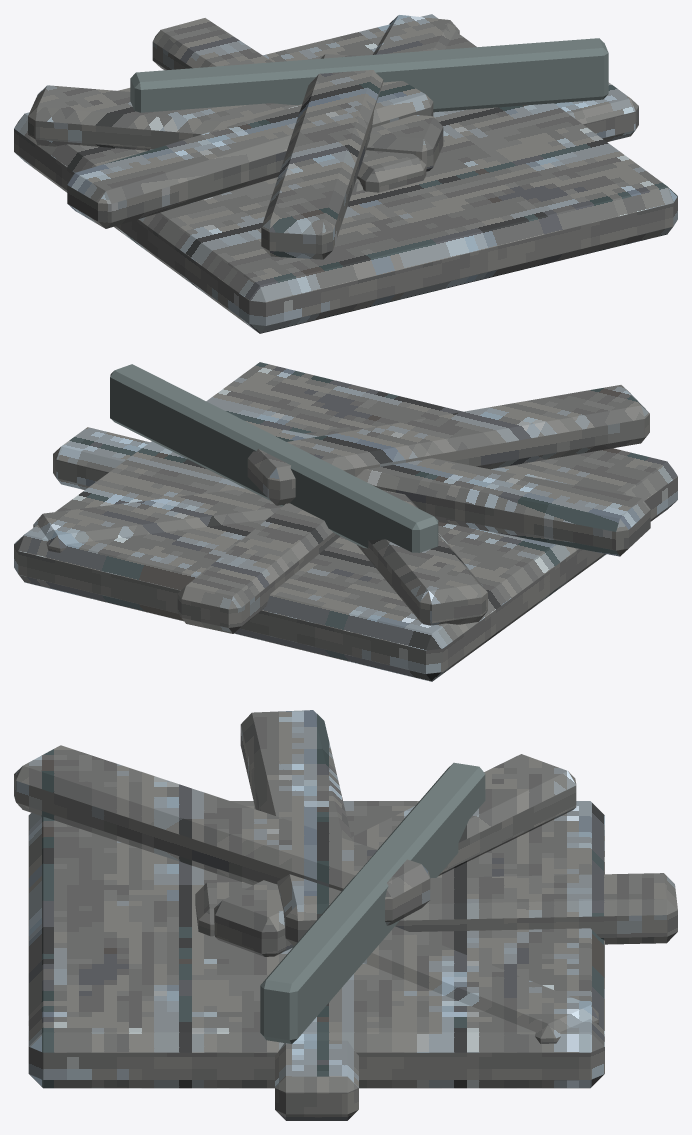
Rendered from caixa_quebrada.fbx.
3 views of the same model, one above another, from view 1: azimuth 30°, elevation 25°; view 2: azimuth 150°, elevation 25°; view 3: azimuth 270°, elevation 25° (orthographic). The views are drawn at different scales.
Visible parts, largest first — view 1: neve_caixa_quebrada; view 2: neve_caixa_quebrada; view 3: neve_caixa_quebrada.
Boxes of the visible parts, x1,y1,x2,y2 form: neve_caixa_quebrada: (14, 14, 677, 333); neve_caixa_quebrada: (14, 362, 677, 681); neve_caixa_quebrada: (14, 710, 677, 1120).
Bounding box in the file's own units: 85 × 15.75 × 74.92.
2 materials, 1 textured.
